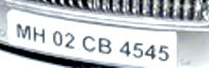0: (51, 29, 64, 47)
2: (63, 32, 77, 50)
4: (119, 40, 132, 58), (145, 44, 156, 60)
5: (157, 44, 170, 63), (132, 42, 144, 59)
B: (98, 37, 112, 55)
C: (80, 35, 98, 54)
H: (33, 26, 46, 44)
M: (15, 23, 32, 41)
